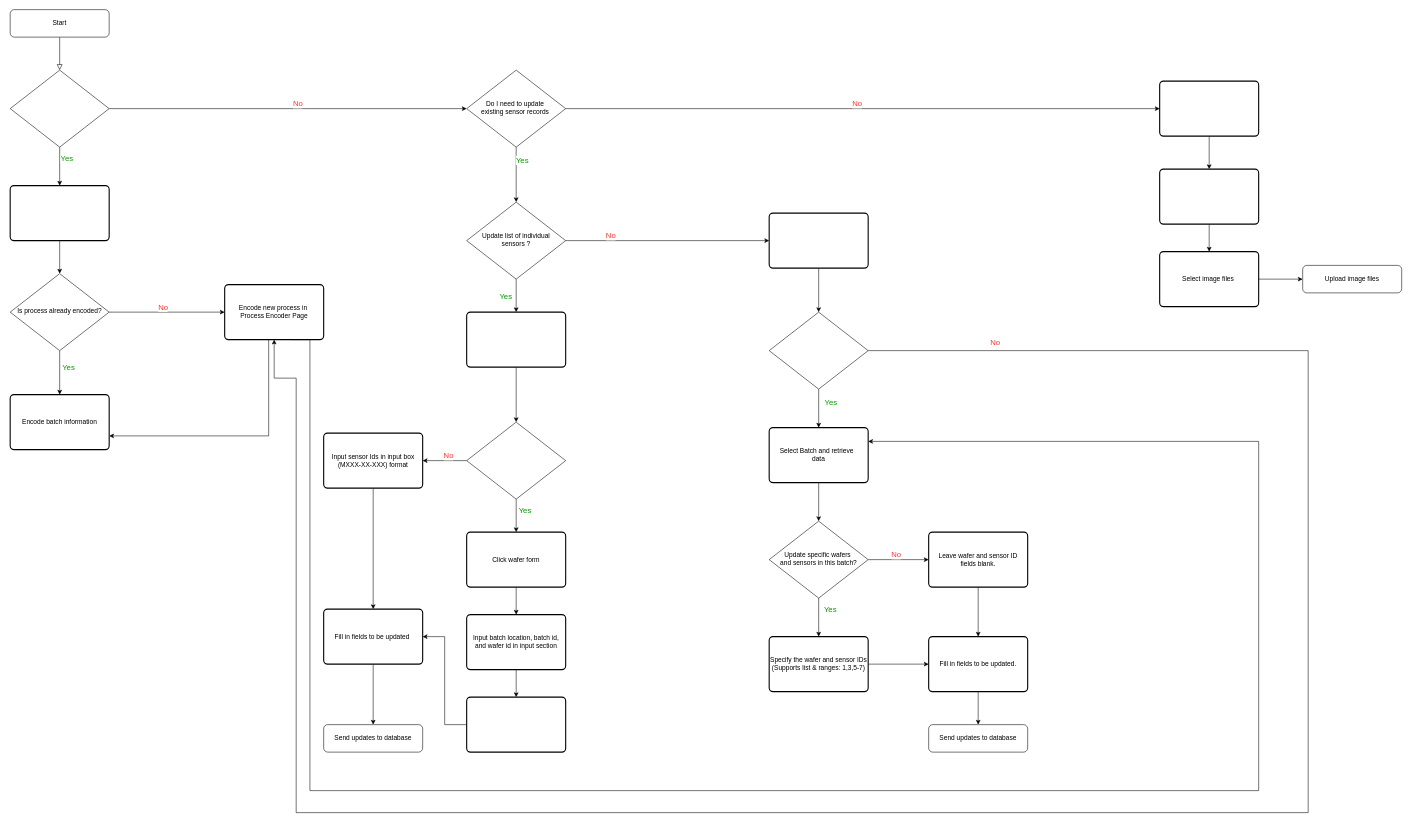
Some shapes in this 1411 by 827 pixel diagram are drawn without their labels. The box of each missing label's shape, as (x1, y1, x2, y2) in pixels:
Do I need to encode new sensors?: (10, 70, 109, 147)
Is the required process already encoded?: (769, 312, 868, 389)
Select and submit sensor ids to be updated from the form: (466, 696, 566, 752)
Select Batch Encoder: (9, 185, 109, 241)
Select Image Upload: (1159, 80, 1259, 136)
Select multiple sensors from the same wafer?: (466, 422, 566, 499)
Select process from process dropdown list: (1159, 168, 1259, 224)
Select Update Batch: (768, 212, 868, 268)
Select Update Sensor: (466, 311, 566, 367)
